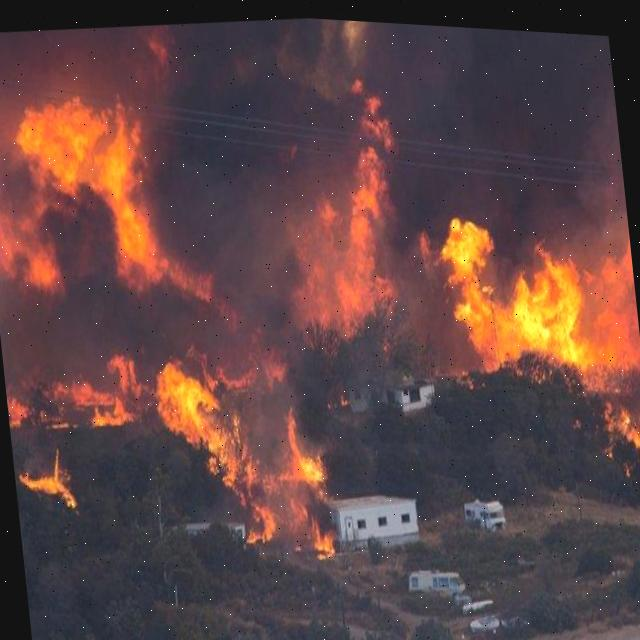fire: (155, 355, 335, 555), (436, 213, 640, 382), (14, 95, 158, 287), (296, 107, 392, 329)
smoke: (0, 14, 462, 391), (423, 20, 629, 243)
